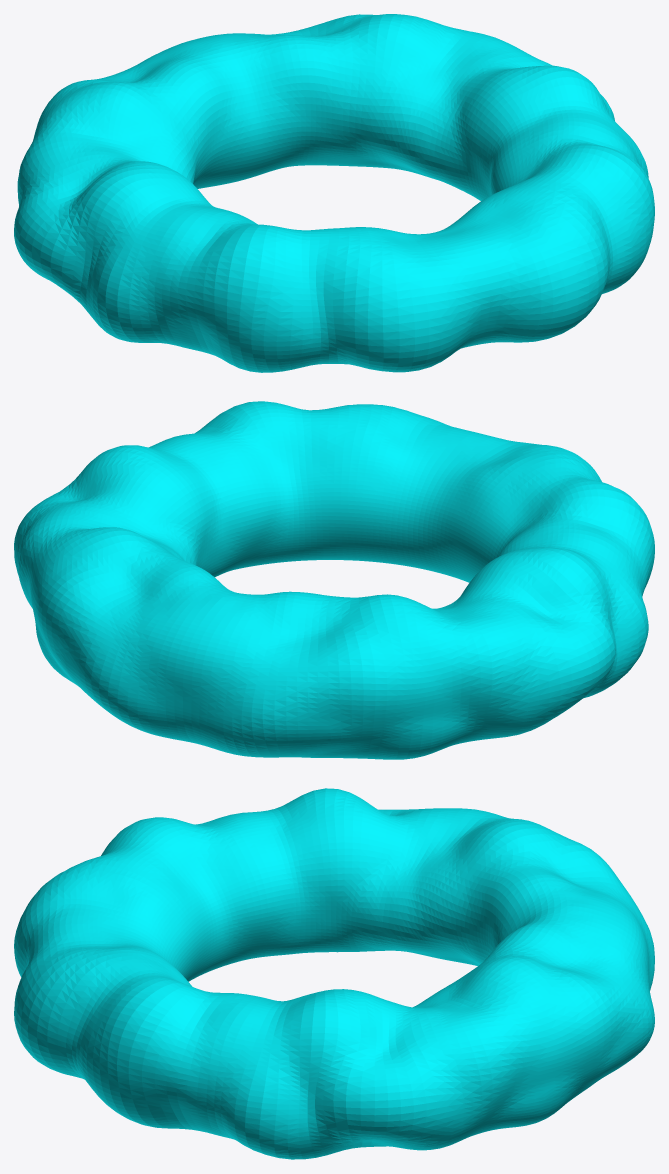
The model's file is cloud.obj.
3 renders of one model, top to bottom at view 1: azimuth 30°, elevation 25°; view 2: azimuth 150°, elevation 25°; view 3: azimuth 270°, elevation 25°, orthographic.
Visible parts, largest first — view 1: Torus.001; view 2: Torus.001; view 3: Torus.001.
Part boxes in pixels (x1,y1,x2,y2): Torus.001: (14, 14, 654, 372); Torus.001: (14, 401, 654, 759); Torus.001: (14, 788, 654, 1159).
Size of the model in its own units: 2.83 by 0.7054 by 2.71.
